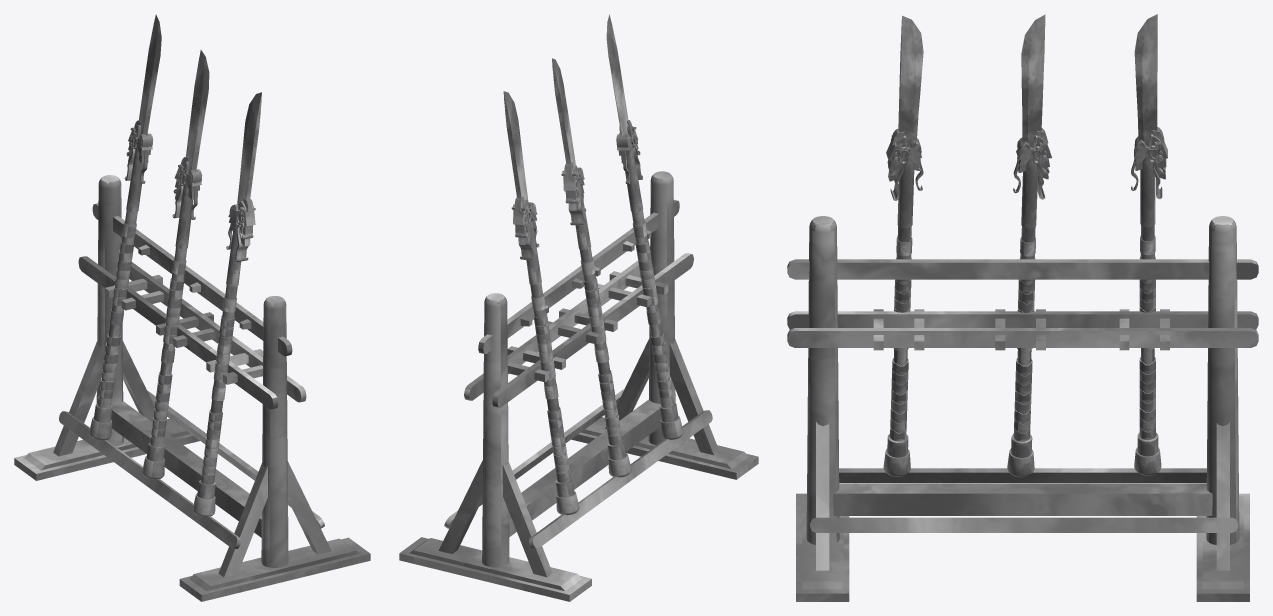
The model's file is sm_support_weapons_06.fbx.
The picture shows the model from 3 angles, left to right: view 1: azimuth 30°, elevation 25°; view 2: azimuth 150°, elevation 25°; view 3: azimuth 270°, elevation 25°; orthographic projection. The views are drawn at different scales.
Parts seen in each view (by area): view 1: sm_support_weapons_06; view 2: sm_support_weapons_06; view 3: sm_support_weapons_06.
Part boxes in pixels (x1=…): sm_support_weapons_06: x1=14, y1=14, x2=370, y2=601; sm_support_weapons_06: x1=399, y1=14, x2=758, y2=601; sm_support_weapons_06: x1=787, y1=14, x2=1258, y2=601.
Size of the model in its own units: 71.69 by 143 by 184.
Materials: 2 (2 with a texture image).
